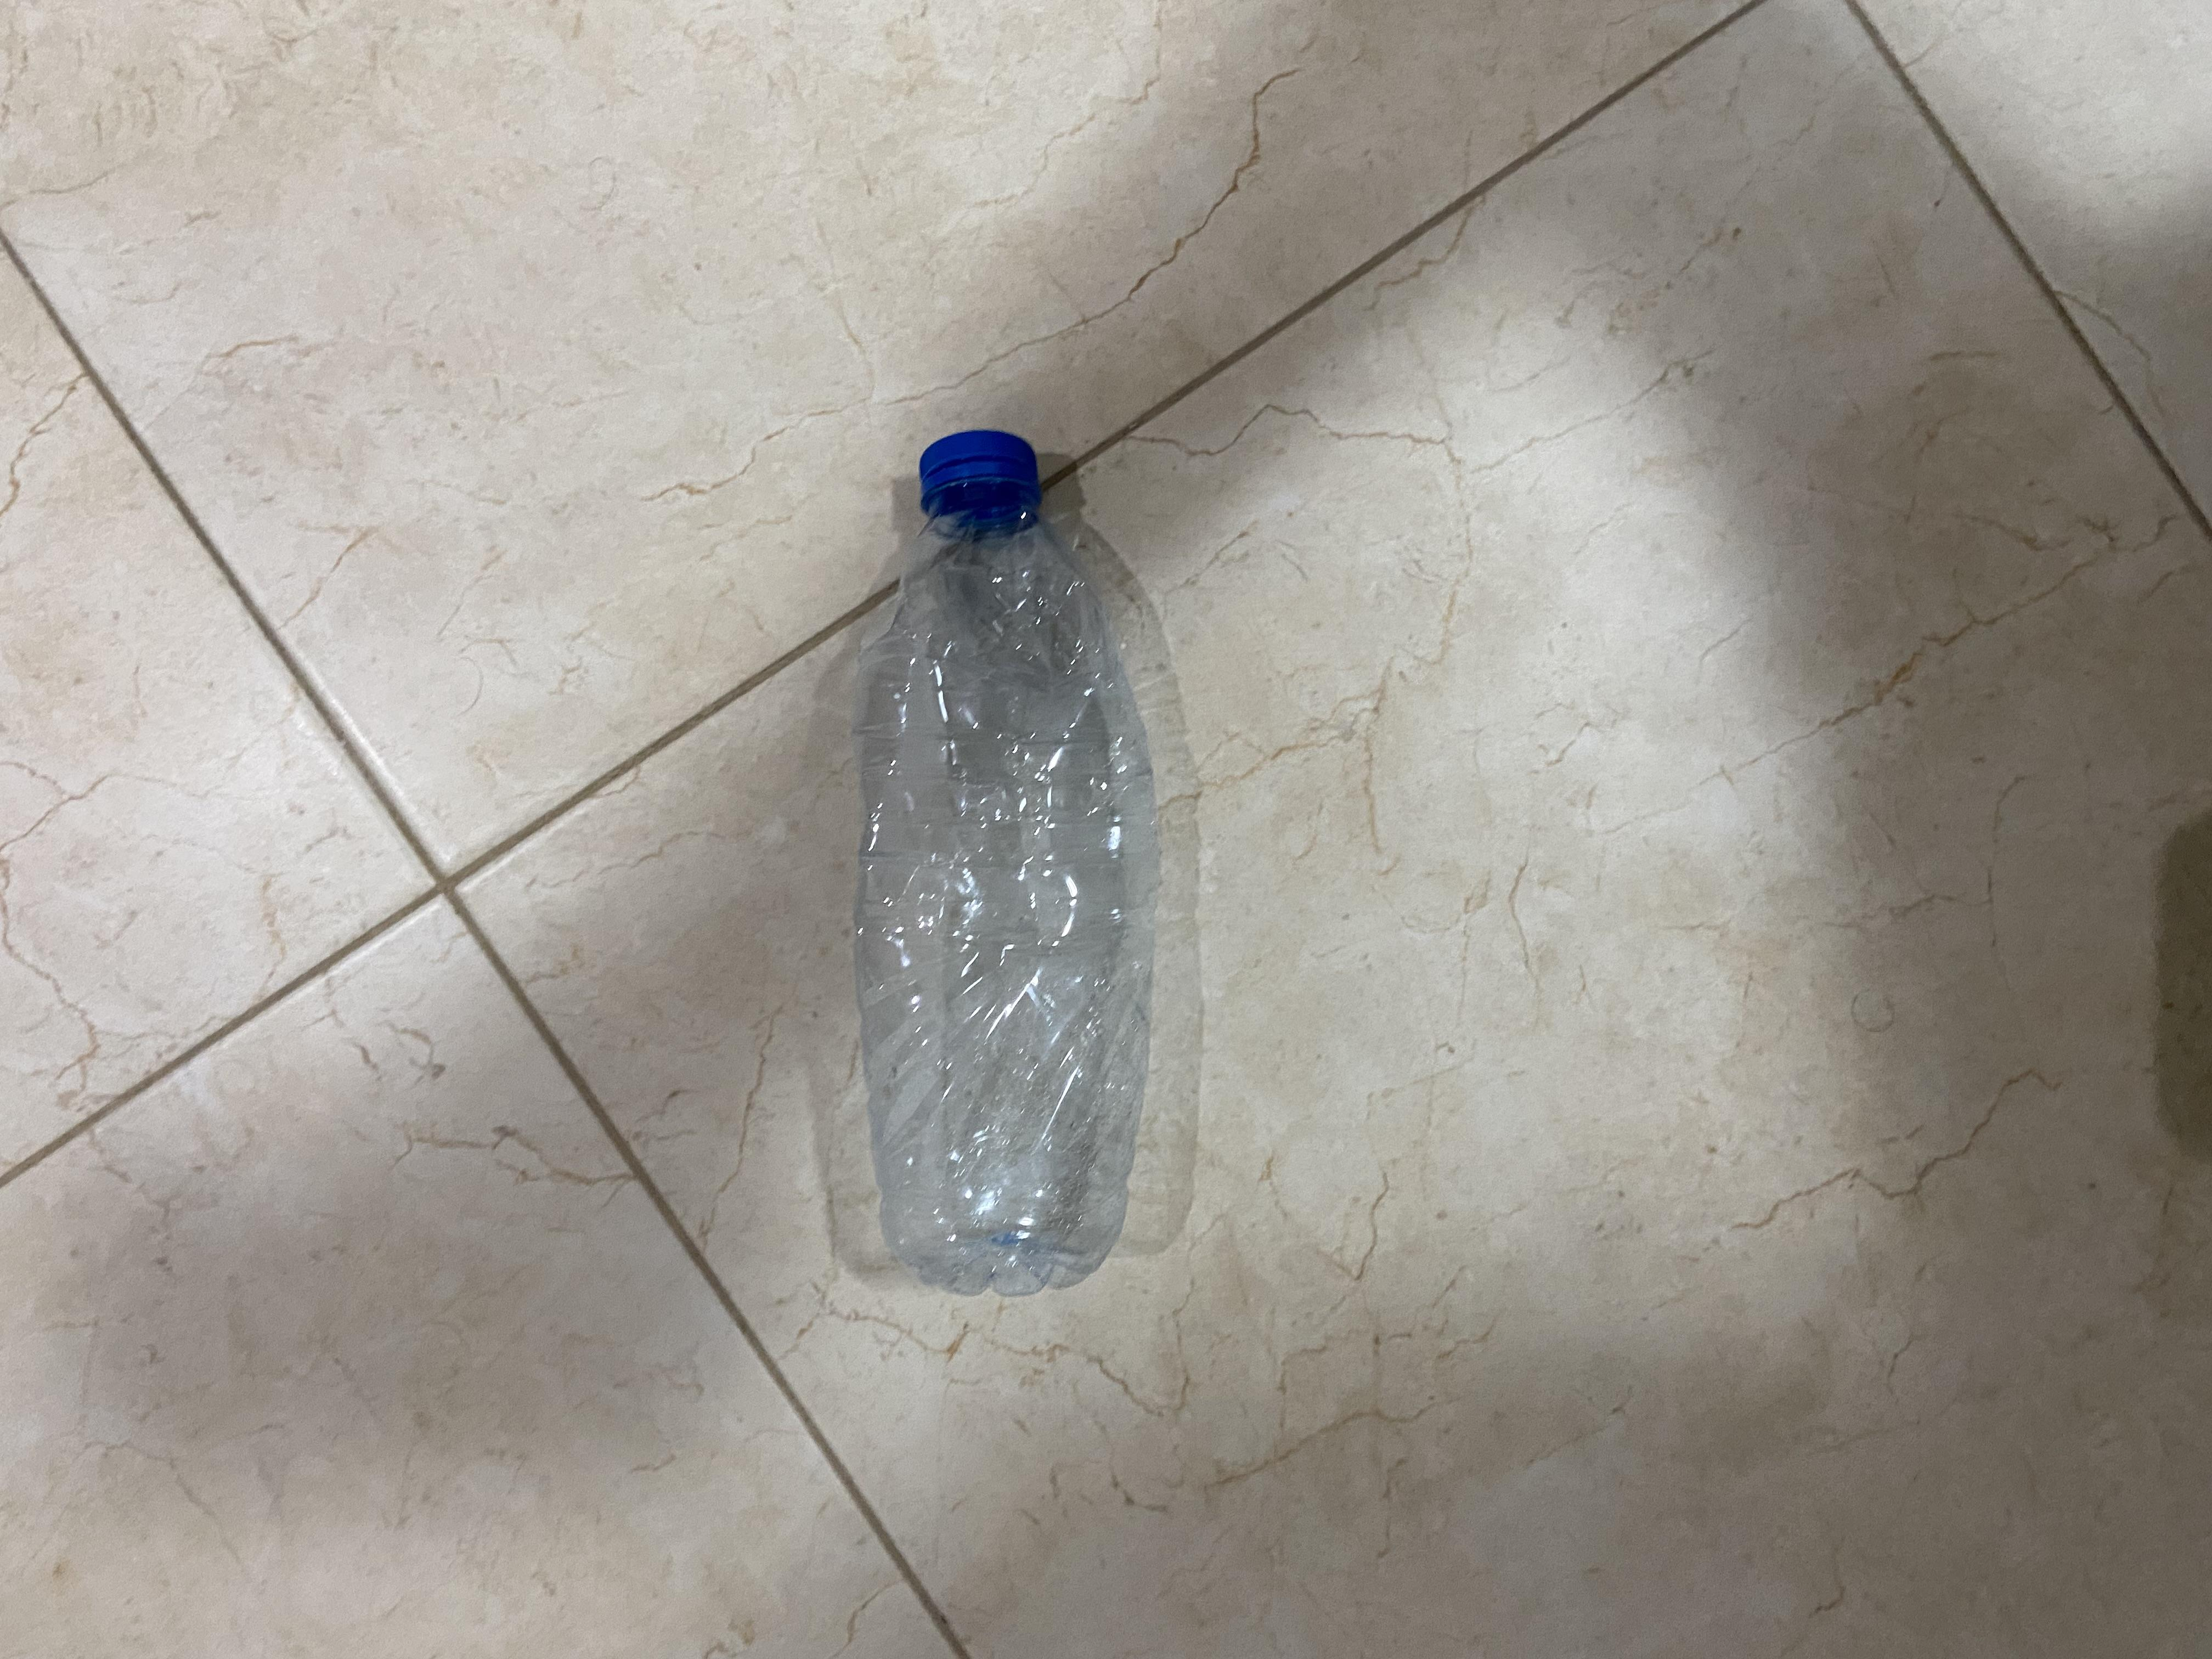bottle: (479, 606, 1641, 904)
